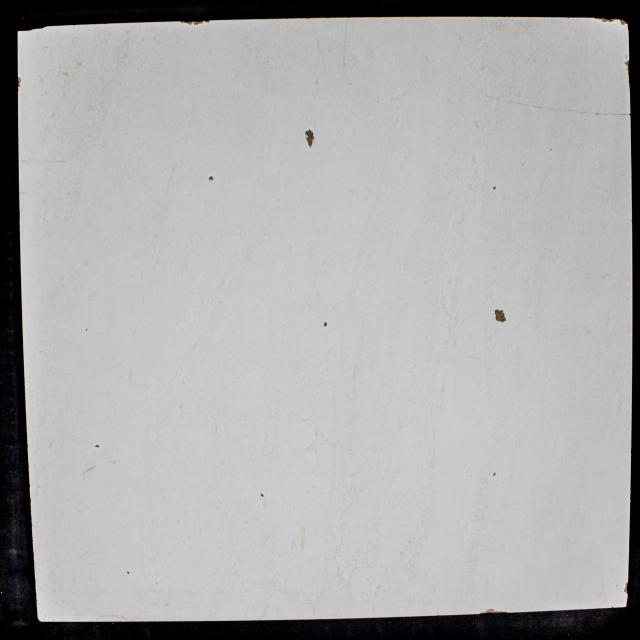edge-chipping: (180, 20, 211, 26), (479, 608, 508, 614), (594, 17, 618, 23), (18, 25, 40, 31), (624, 60, 629, 75), (619, 18, 628, 26), (624, 581, 628, 595), (18, 76, 22, 88), (40, 25, 50, 29)
hole: (304, 129, 315, 148), (494, 309, 507, 323), (208, 176, 214, 182), (323, 321, 328, 327), (492, 186, 497, 190), (260, 493, 264, 498), (95, 444, 99, 448), (126, 571, 130, 574), (493, 472, 496, 476), (85, 328, 88, 332)
line: (484, 95, 557, 111), (559, 108, 631, 116), (342, 18, 349, 68)
